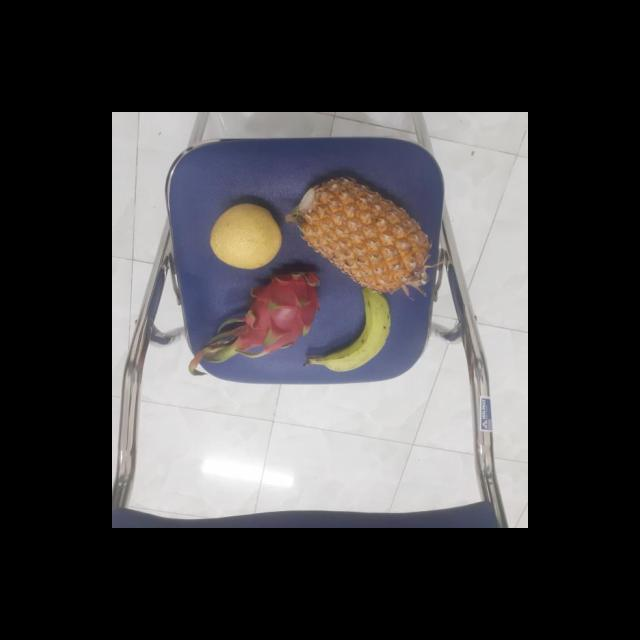banana: (312, 283, 396, 376)
pear: (209, 201, 287, 266)
pineapple: (293, 175, 432, 295)
pitaya: (224, 264, 324, 356)
